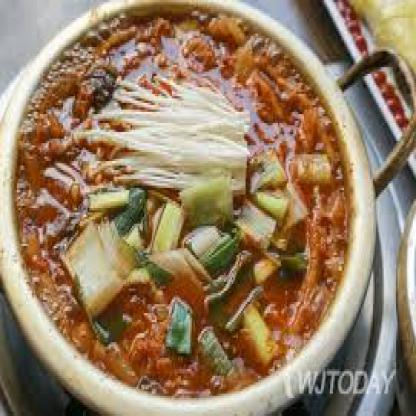Kimchi: (18, 2, 353, 407)
